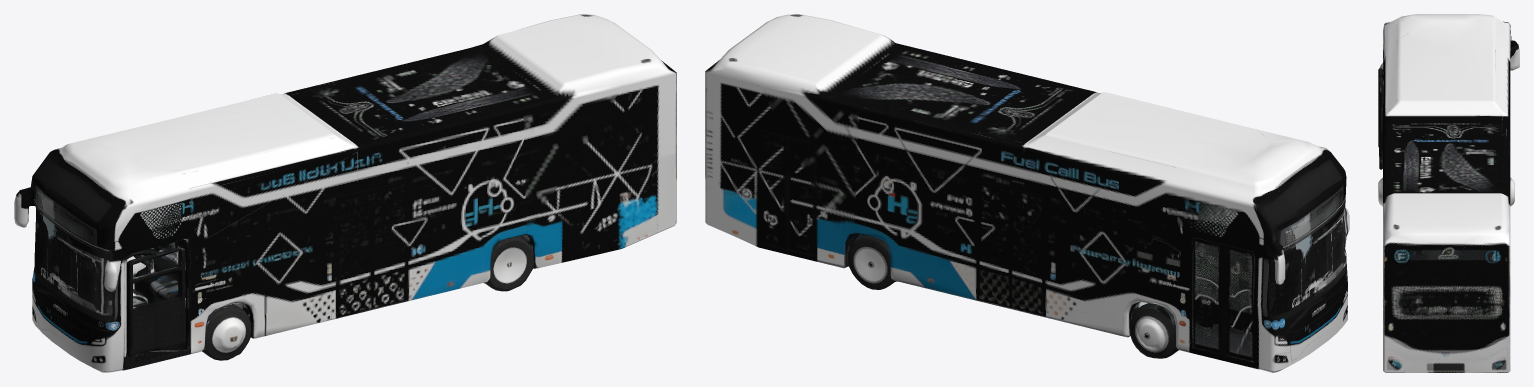
The model's file is bus_hydro.glb.
3 renders of one model, left to right at view 1: azimuth 30°, elevation 25°; view 2: azimuth 150°, elevation 25°; view 3: azimuth 270°, elevation 25°, orthographic. The views are drawn at different scales.
Bounding box in the file's own units: 1.9 × 0.6145 × 0.4814.
1 material, 1 textured.
